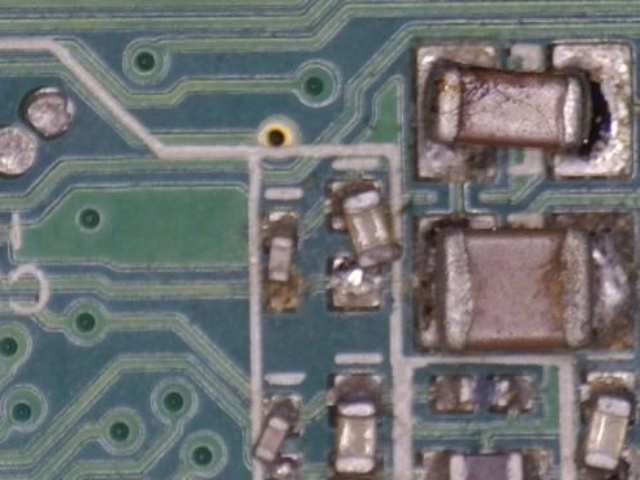pcb_defect: (330, 179, 403, 309), (583, 369, 639, 480), (250, 393, 303, 480)
